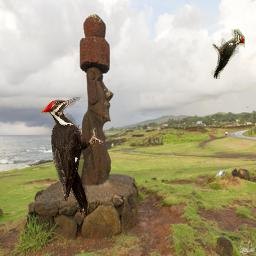Woodpecker: (40, 97, 104, 218), (211, 29, 245, 79)
